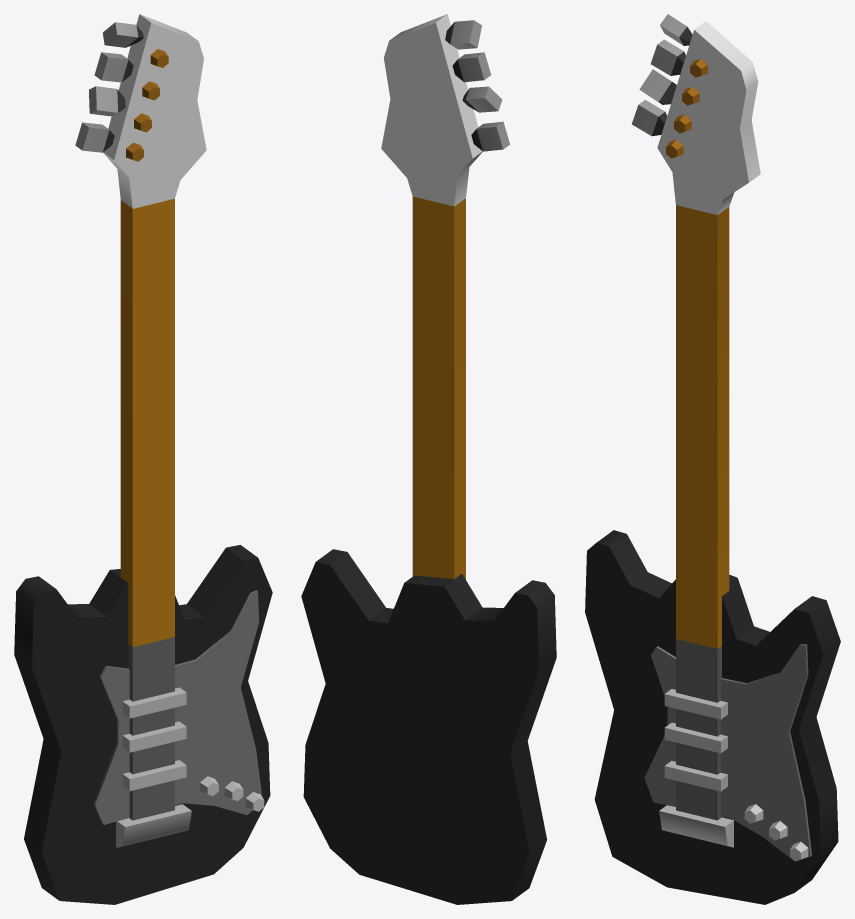
Rendered from guitarpass_black.fbx.
3 renders of one model, left to right at view 1: azimuth 30°, elevation 25°; view 2: azimuth 150°, elevation 25°; view 3: azimuth 330°, elevation 25°, orthographic.
Parts seen in each view (by area): view 1: guitarpass_black; view 2: guitarpass_black; view 3: guitarpass_black.
Part boxes in pixels (x1,y1,x2,y2): guitarpass_black: (14, 14, 272, 904); guitarpass_black: (301, 14, 556, 904); guitarpass_black: (585, 14, 840, 904).
Size of the model in its own units: 89.54 by 314 by 17.6.
